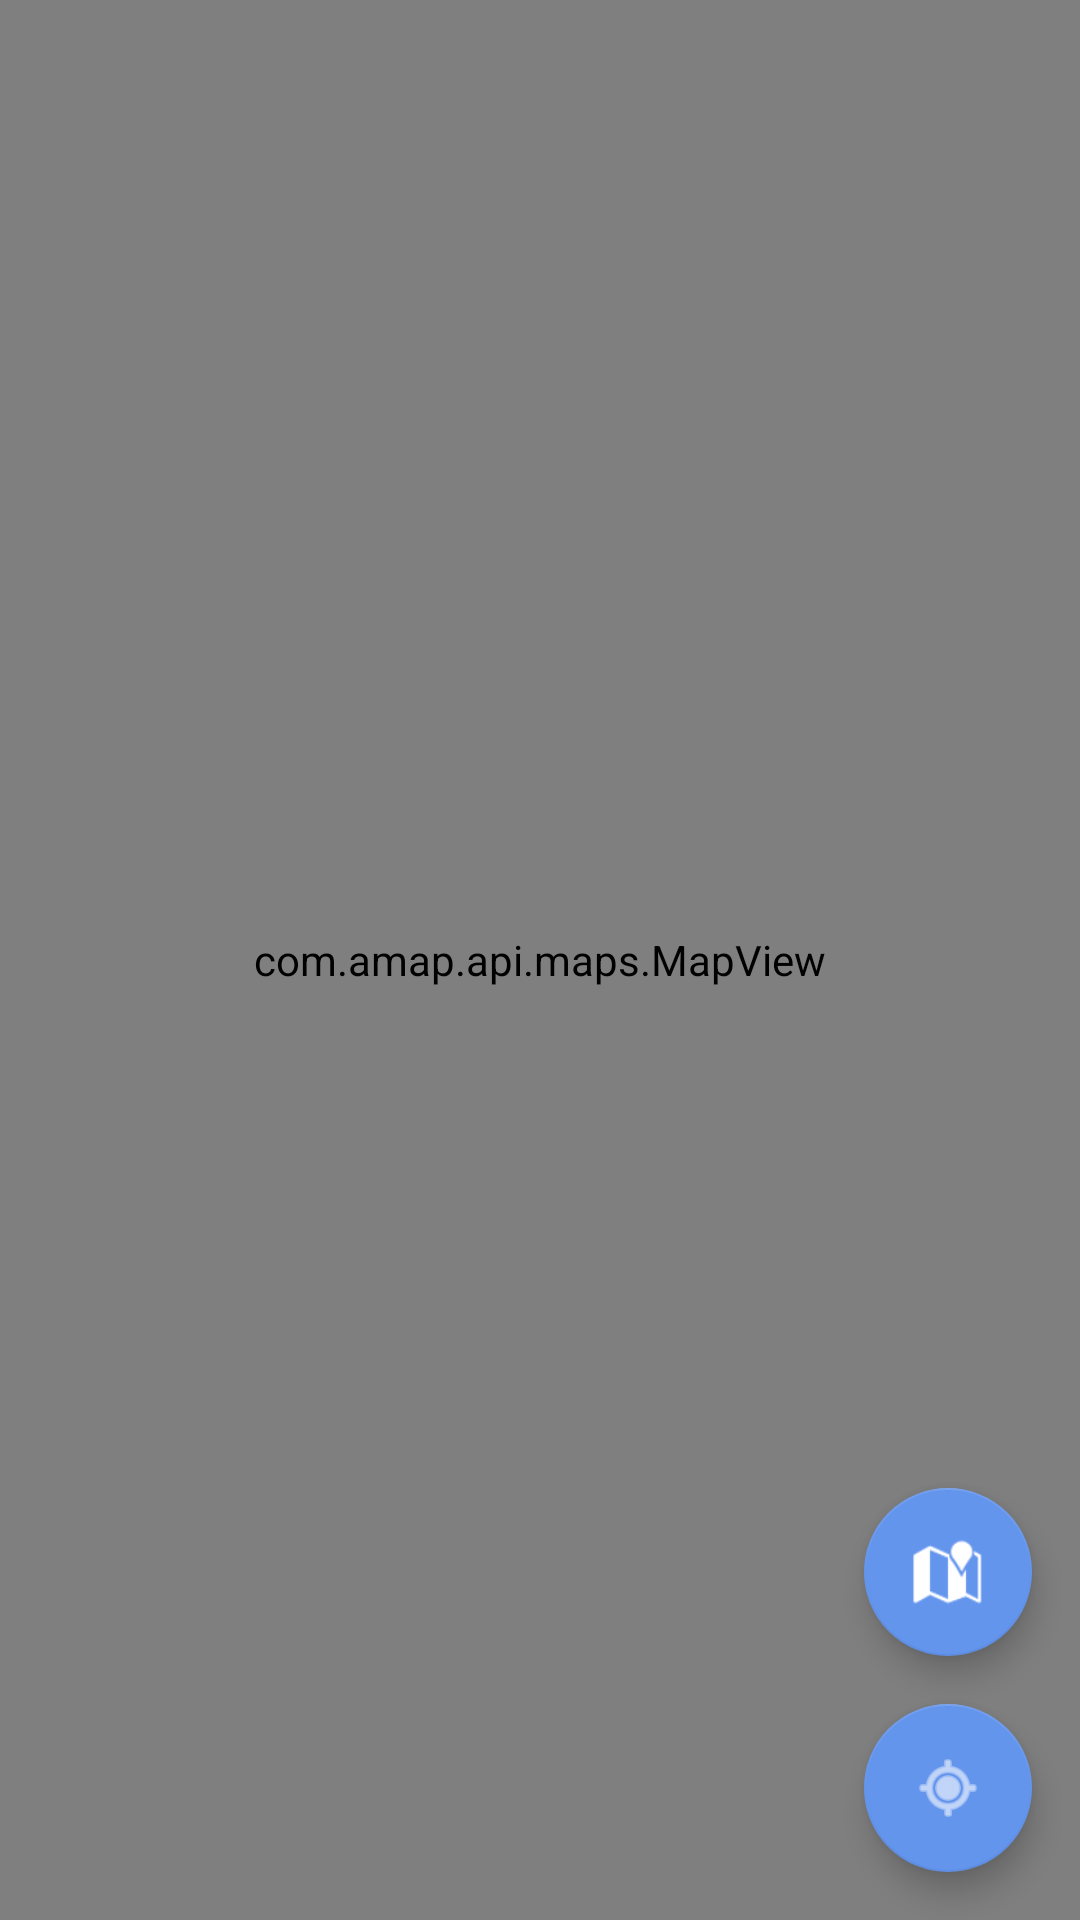

Icon click points for this 1080*1920 phone screenshot, format point (x, y):
切换地图类型: point (948, 1572)
我的位置: point (948, 1788)
